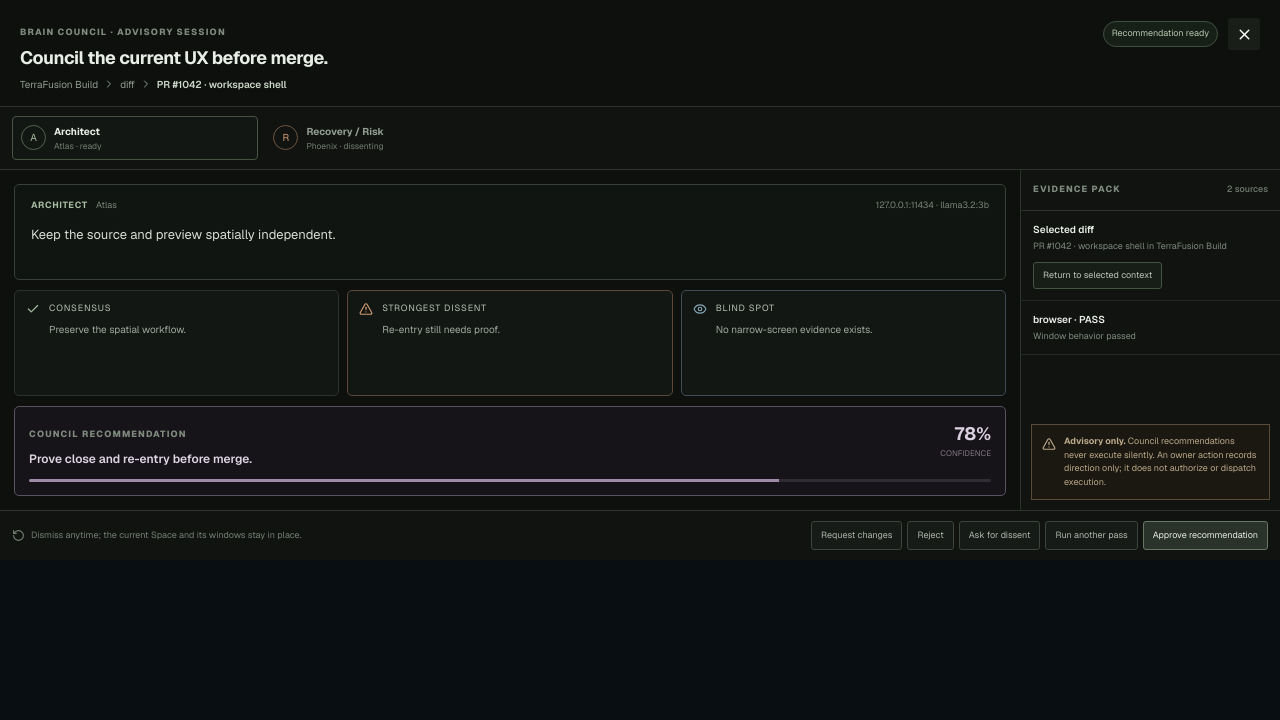
Test: Experience V2 Brain Council surface › makes roles primary while keeping provider and model metadata inspectable
expect the button "A Architect Atlas · ready" is shown: met, box [12, 116, 258, 160]
Click the button "R Recovery / Risk Phoenix · dissenting" at (388,138), box [264, 116, 511, 160]
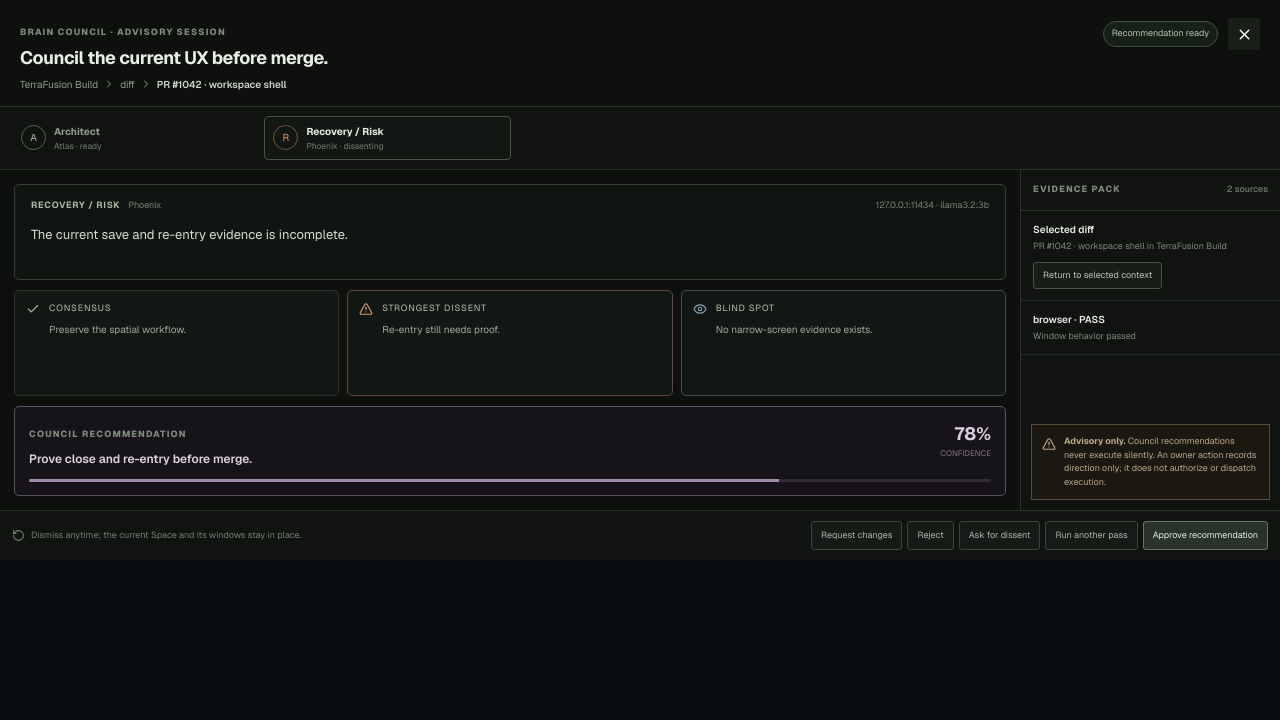
expect the text "127.0.0.1:11434 · llama3.2:3b" is shown: met, box [876, 199, 989, 213]
expect the text "Phoenix" is shown: met, box [128, 199, 161, 213]
expect the text "The current save and re-entry evidence is incomplete." is shown: met, box [31, 226, 348, 243]
